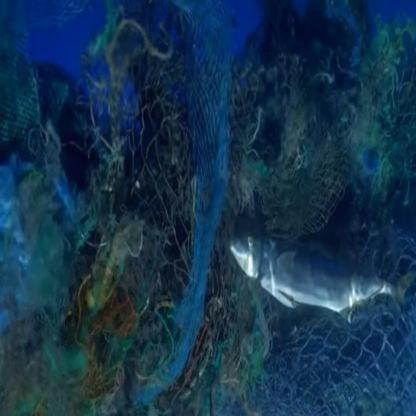net: (79, 44, 416, 287)
